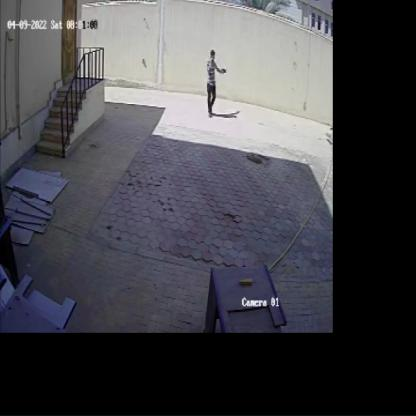handgun: (218, 64, 230, 76)
